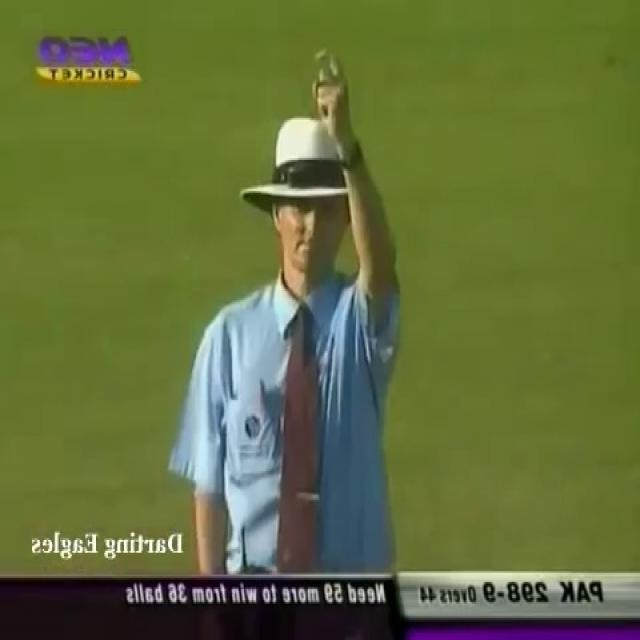Out: (165, 41, 411, 576)
